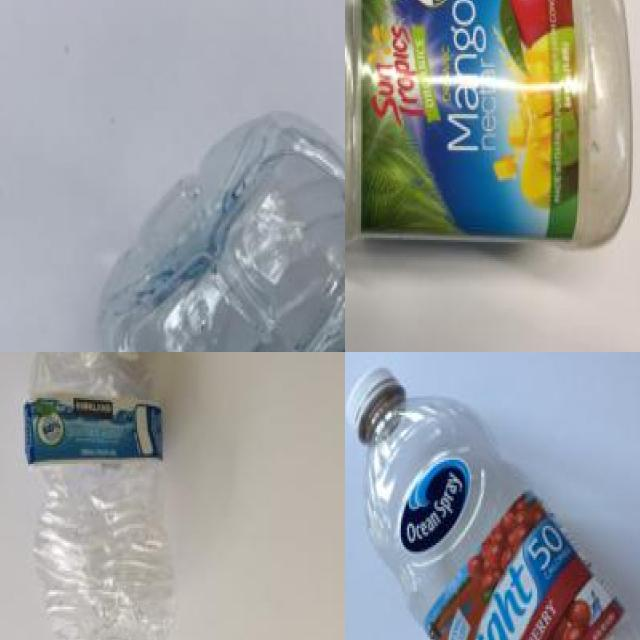plastic: (345, 356, 640, 640), (345, 0, 640, 259), (92, 93, 345, 352), (20, 352, 186, 640)
